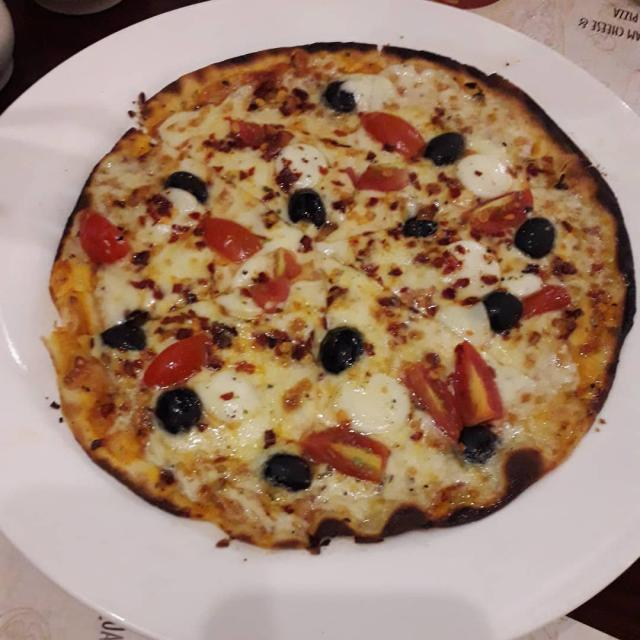black_olives: (98, 305, 154, 352), (148, 387, 206, 428), (316, 327, 365, 375), (259, 451, 312, 490), (458, 420, 499, 470), (515, 216, 557, 261), (484, 290, 525, 333), (426, 123, 464, 167), (164, 169, 212, 201), (320, 76, 360, 113), (289, 189, 326, 226), (403, 216, 438, 242)
pizza: (48, 43, 635, 550)
tomatoes: (292, 421, 395, 484), (397, 358, 463, 442), (447, 336, 504, 424), (190, 211, 262, 269), (215, 111, 292, 162), (354, 105, 424, 161), (142, 335, 214, 388), (72, 210, 131, 270), (458, 189, 534, 233), (344, 160, 416, 198), (242, 273, 298, 314), (522, 281, 574, 324)
